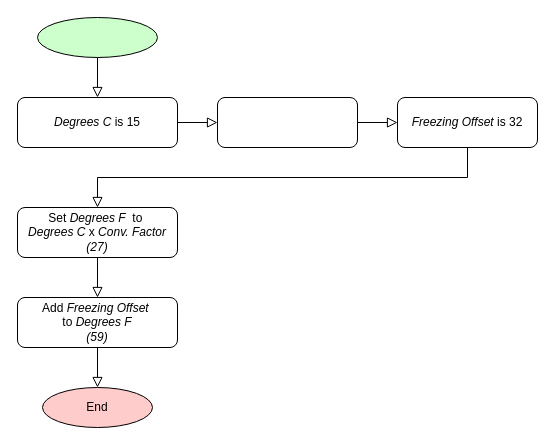
The diagram is 555 pixels wide and 445 high, and some of its shapes have lost their labels. Here are the shapes that lost their labels. From the top down, the centre of each, then its label:
At (x=97, y=37): "Start".
At (x=287, y=122): "Conv. Factor is 9/5".
